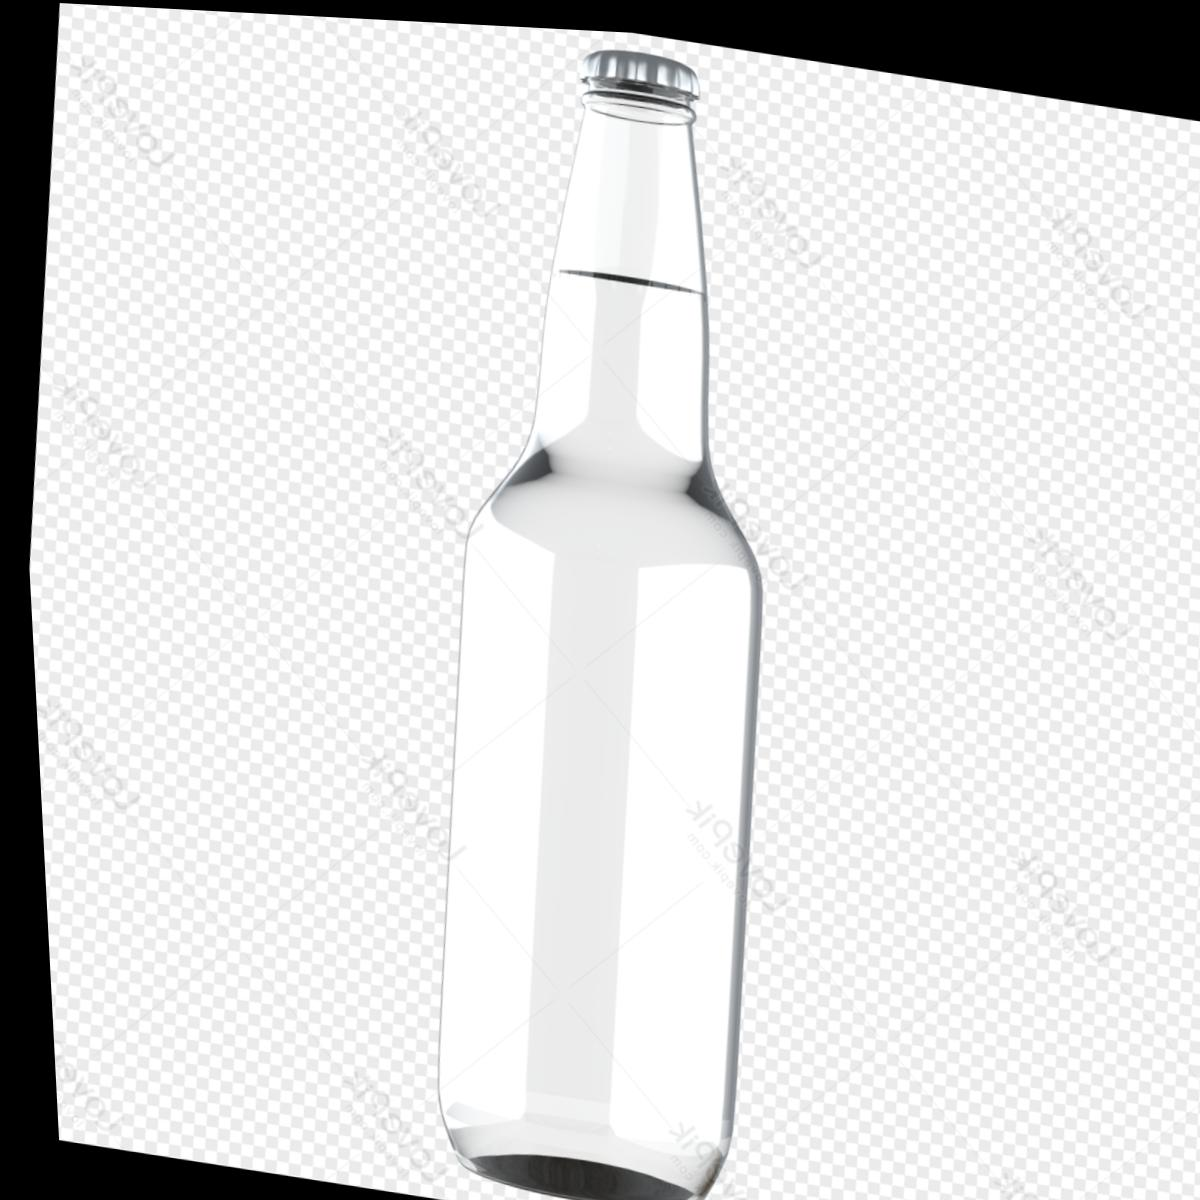glass: (389, 37, 759, 1199)
